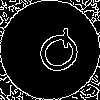Q: (25, 25, 87, 84)
